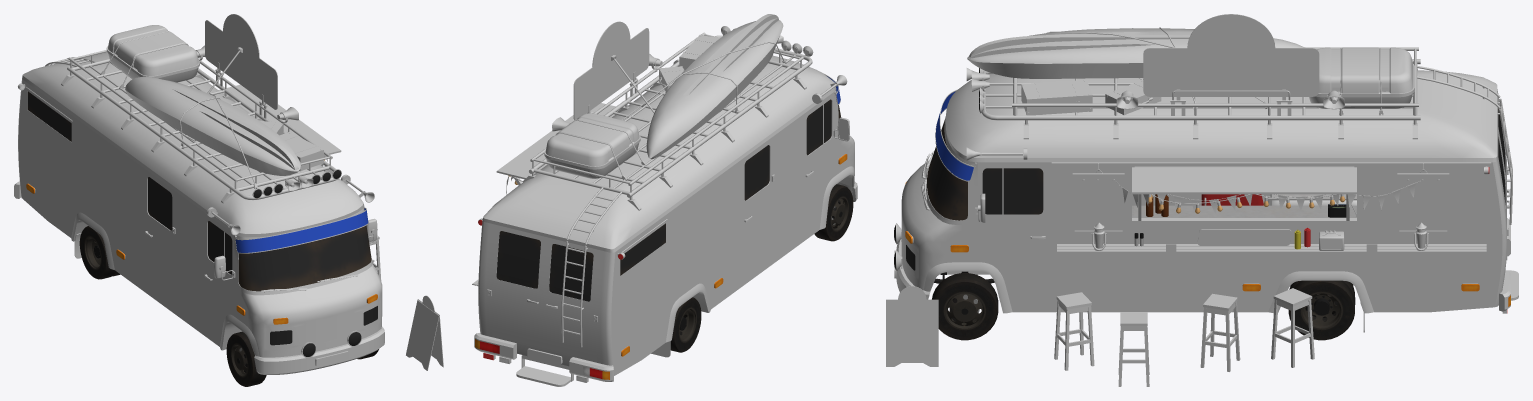
File: FoodTruck_Open.fbx
3 renders of one model, left to right at view 1: azimuth 30°, elevation 25°; view 2: azimuth 150°, elevation 25°; view 3: azimuth 270°, elevation 25°, orthographic. The views are drawn at different scales.
Parts seen in each view (by area): view 1: Hipster_Food_Truck_Main, Hipster_Food_Truck_SideDoor, Hipster_Food_Truck_Door_R, Hipster_Food_Truck_Board, Hipster_Food_Truck_Wheel_R, Hipster_Food_Truck_WheelsRear; view 2: Hipster_Food_Truck_Main, Hipster_Food_Truck_RearDoor_L, Hipster_Food_Truck_RearDoor_R, Hipster_Food_Truck_SideDoor, Hipster_Food_Truck_Door_R, Hipster_Food_Truck_Wheel_R, Hipster_Food_Truck_WheelsRear; view 3: Hipster_Food_Truck_Main, Hipster_Food_Truck_Door_L, Hipster_Food_Truck_Board, Hipster_Food_Truck_Wheel_L, Hipster_Food_Truck_WheelsRear, Hipster_Food_Truck_Chair_1, Hipster_Food_Truck_Chair_3, Hipster_Food_Truck_Chair_4, Hipster_Food_Truck_Chair_2, Hipster_Food_Truck_Main.007.
Boxes of the visible parts, left/top/right/bottom form: Hipster_Food_Truck_Main: left=14, top=14, right=384, bottom=374; Hipster_Food_Truck_SideDoor: left=144, top=168, right=174, bottom=297; Hipster_Food_Truck_Door_R: left=204, top=212, right=234, bottom=331; Hipster_Food_Truck_Board: left=406, top=295, right=443, bottom=370; Hipster_Food_Truck_Wheel_R: left=226, top=331, right=266, bottom=386; Hipster_Food_Truck_WheelsRear: left=79, top=226, right=120, bottom=279; Hipster_Food_Truck_Main: left=472, top=14, right=857, bottom=386; Hipster_Food_Truck_RearDoor_L: left=488, top=224, right=546, bottom=349; Hipster_Food_Truck_RearDoor_R: left=543, top=237, right=599, bottom=362; Hipster_Food_Truck_SideDoor: left=741, top=137, right=774, bottom=270; Hipster_Food_Truck_Door_R: left=803, top=92, right=849, bottom=225; Hipster_Food_Truck_Wheel_R: left=814, top=184, right=853, bottom=241; Hipster_Food_Truck_WheelsRear: left=670, top=297, right=701, bottom=352; Hipster_Food_Truck_Main: left=894, top=14, right=1518, bottom=332; Hipster_Food_Truck_Door_L: left=976, top=162, right=1051, bottom=292; Hipster_Food_Truck_Board: left=886, top=286, right=938, bottom=366; Hipster_Food_Truck_Wheel_L: left=932, top=273, right=998, bottom=340; Hipster_Food_Truck_WheelsRear: left=1288, top=280, right=1355, bottom=340; Hipster_Food_Truck_Chair_1: left=1054, top=292, right=1094, bottom=370; Hipster_Food_Truck_Chair_3: left=1200, top=293, right=1240, bottom=371; Hipster_Food_Truck_Chair_4: left=1271, top=288, right=1314, bottom=367; Hipster_Food_Truck_Chair_2: left=1118, top=312, right=1149, bottom=386; Hipster_Food_Truck_Main.007: left=1201, top=194, right=1263, bottom=205.
Bounding box in the file's own units: 355 × 398 × 719.
